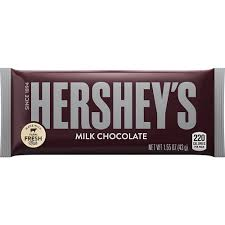Chocolate: (5, 71, 223, 166)
